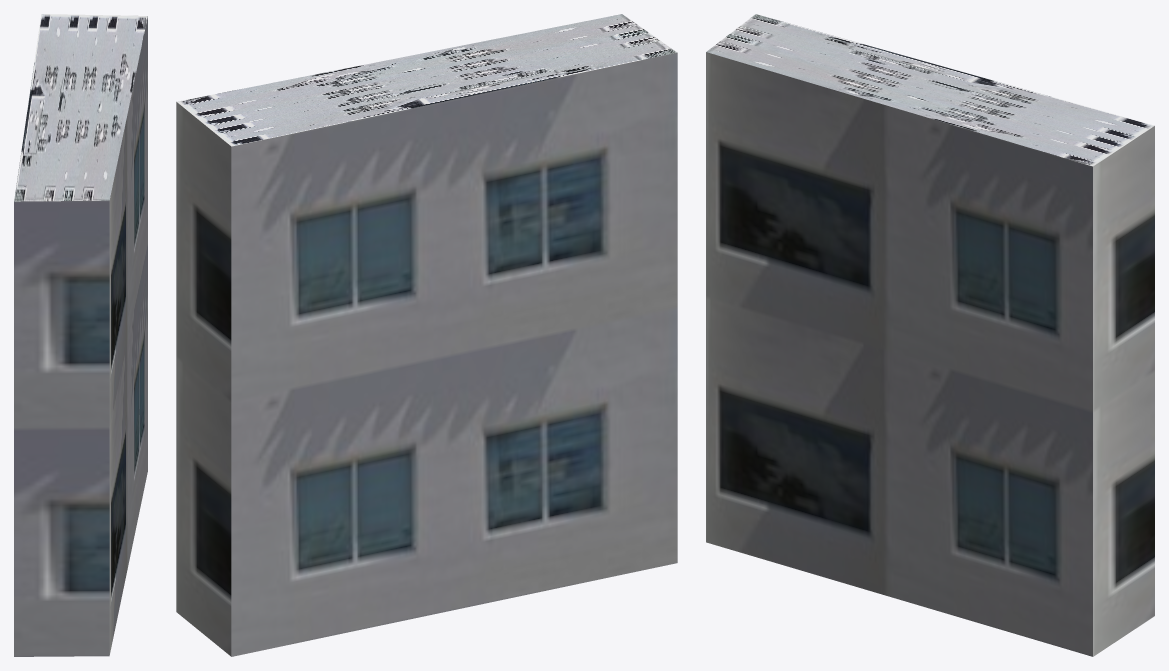
Rendered from ResTex__4795.fbx.
3 views of the same model, side by side, from view 1: azimuth 30°, elevation 25°; view 2: azimuth 150°, elevation 25°; view 3: azimuth 270°, elevation 25° (orthographic). The views are drawn at different scales.
Visible parts, largest first — view 1: CityEngineMaterial_10_m, CityEngineMaterial_8_m; view 2: CityEngineMaterial_10_m, CityEngineMaterial_8_m; view 3: CityEngineMaterial_10_m, CityEngineMaterial_8_m.
Boxes of the visible parts, left/top/right/bottom form: CityEngineMaterial_10_m: left=14, top=16, right=147, bottom=656; CityEngineMaterial_8_m: left=14, top=14, right=147, bottom=201; CityEngineMaterial_10_m: left=176, top=52, right=677, bottom=656; CityEngineMaterial_8_m: left=177, top=14, right=676, bottom=146; CityEngineMaterial_10_m: left=706, top=52, right=1154, bottom=656; CityEngineMaterial_8_m: left=706, top=14, right=1154, bottom=166.
Bounding box in the file's own units: 4 × 6 × 4.98.
Materials: 2 (2 with a texture image).
